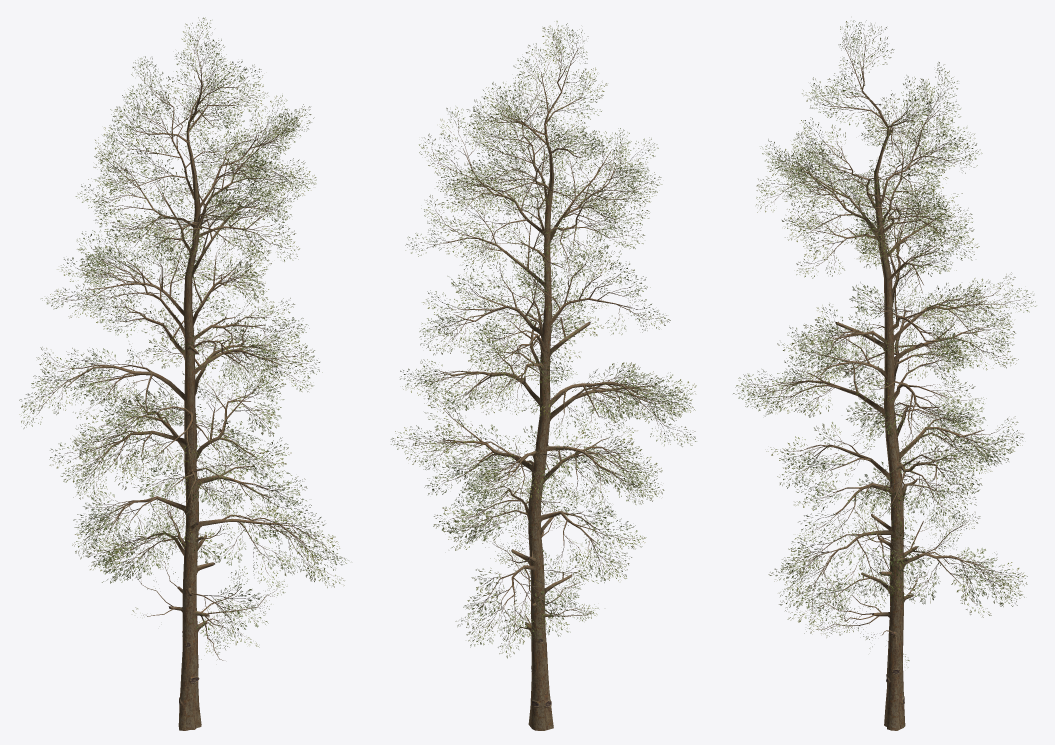
File: uploads_files_1970932_pine.fbx
3 renders of one model, left to right at view 1: azimuth 30°, elevation 25°; view 2: azimuth 150°, elevation 25°; view 3: azimuth 270°, elevation 25°, orthographic. The views are drawn at different scales.
Parts seen in each view (by area): view 1: conifer_macedonian_pine_5; view 2: conifer_macedonian_pine_5; view 3: conifer_macedonian_pine_5.
Boxes of the visible parts, box(x1,y1,x2,y2) form: conifer_macedonian_pine_5: box(19, 17, 348, 730); conifer_macedonian_pine_5: box(391, 21, 696, 730); conifer_macedonian_pine_5: box(733, 20, 1036, 730).
Bounding box in the file's own units: 1337 × 3143 × 1252.
3 materials, 3 textured.
